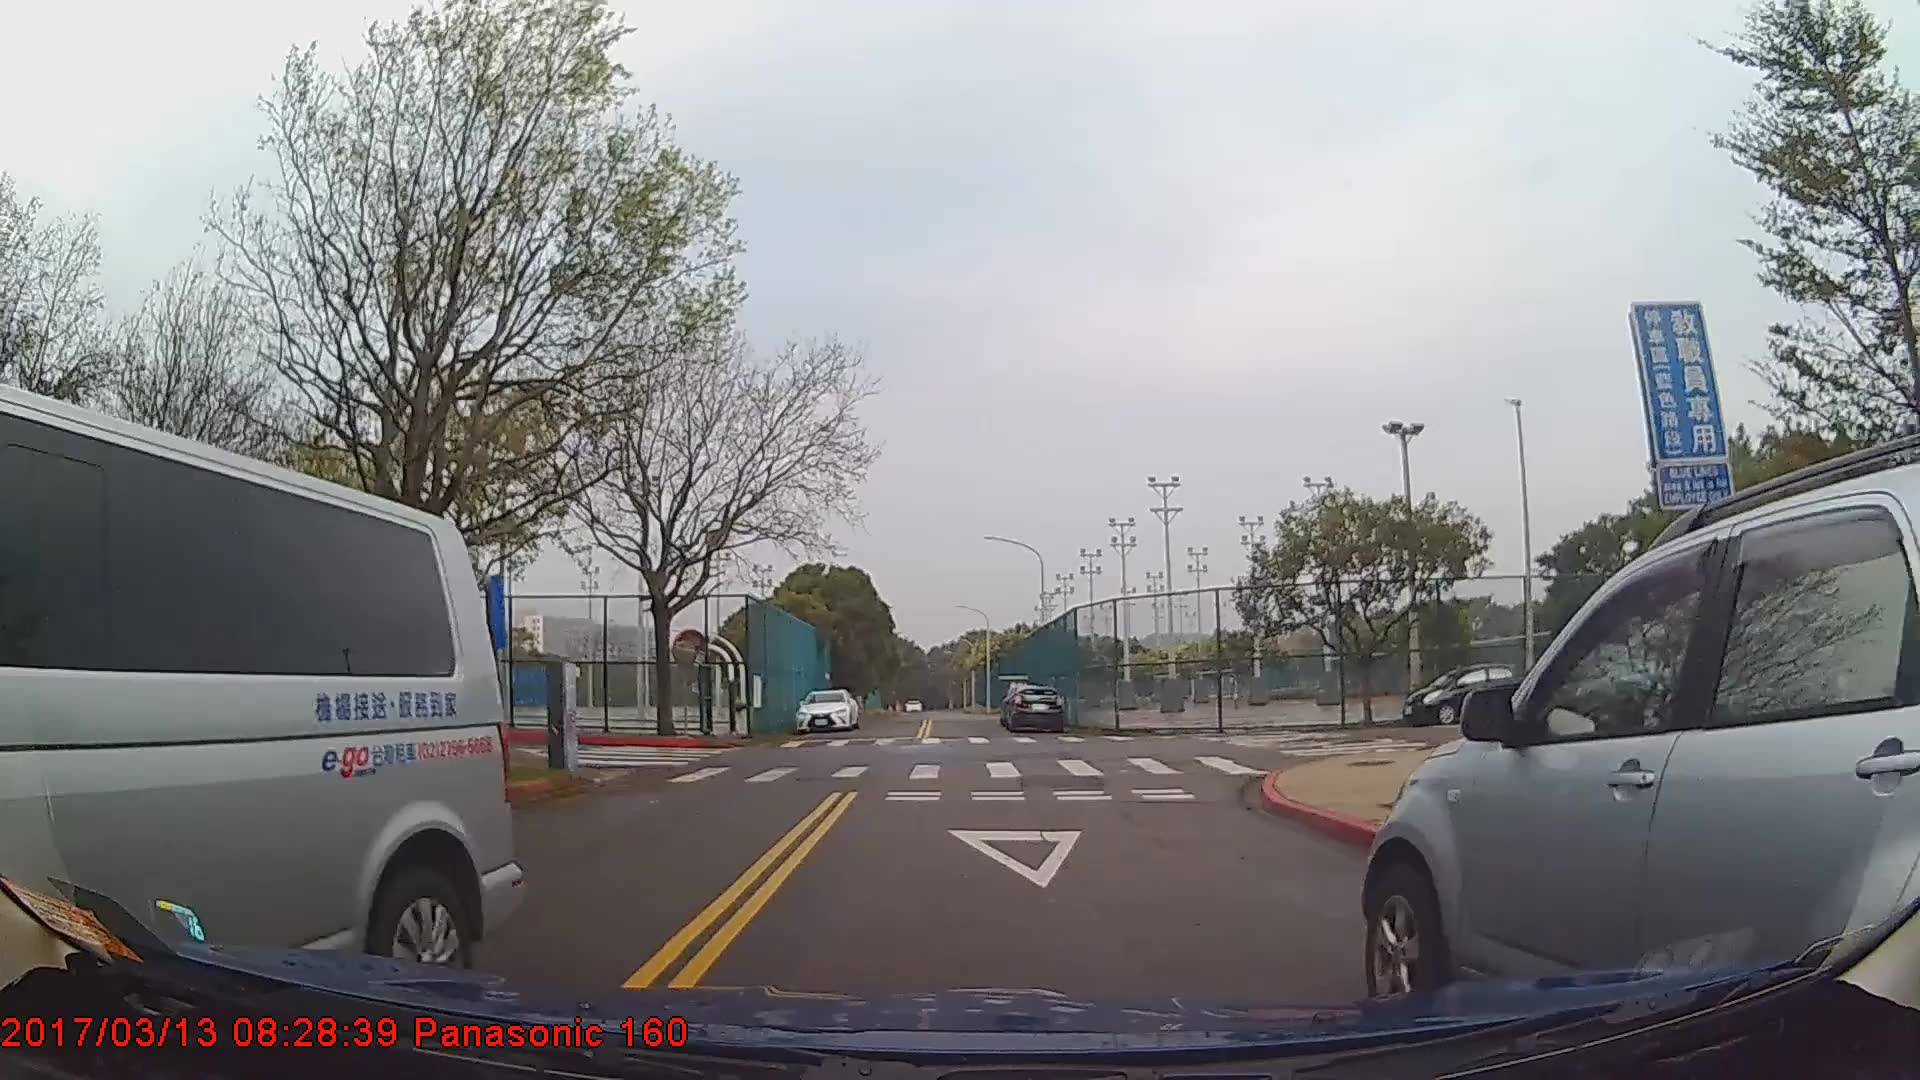vehicle: (0, 371, 521, 1027), (1361, 458, 1920, 1039), (1403, 663, 1530, 727), (1001, 682, 1064, 735), (794, 686, 858, 733)
